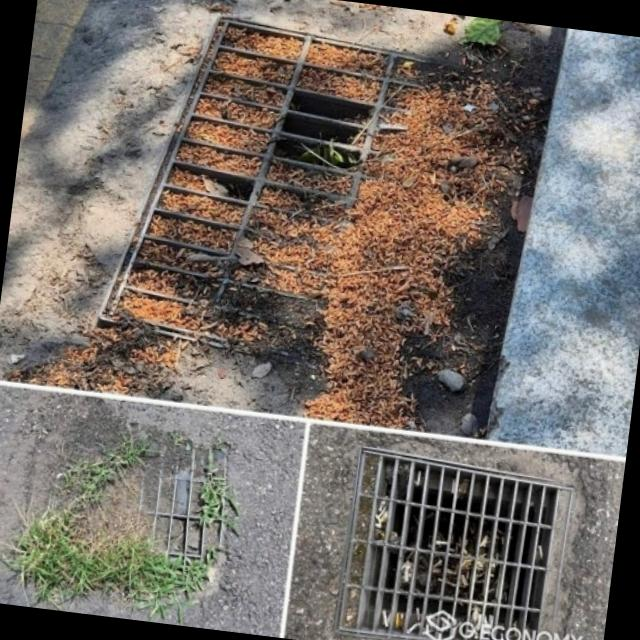drain_area: (388, 465, 558, 629), (358, 543, 468, 627), (270, 87, 374, 157), (228, 177, 255, 205)
drain_full: (99, 20, 536, 398), (338, 450, 576, 640), (27, 420, 229, 575)
